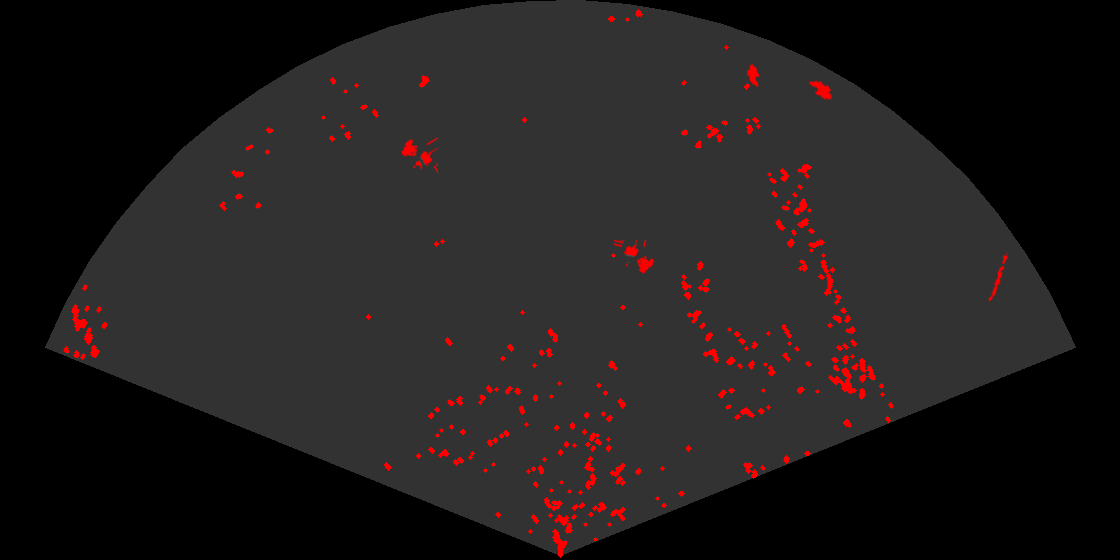AUV: (807, 79, 834, 101), (745, 62, 761, 89)
cage: (400, 135, 438, 175), (614, 240, 656, 275)
chain: (986, 252, 1010, 305)
